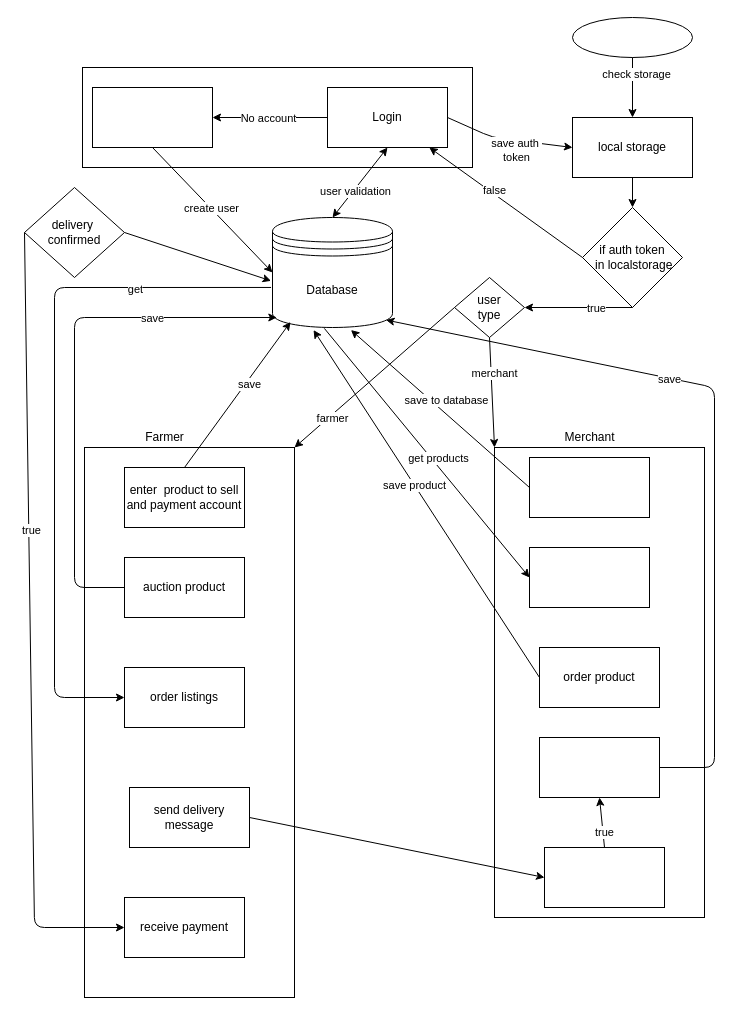
Some shapes in this 740 by 1015 pixel diagram are drawn without their labels. Each missing label, with the box of its shape:
enter business name,registration and payment account: (528, 456, 650, 518)
receive delivery message: (544, 846, 664, 908)
Register: (92, 86, 212, 148)
send confirmation messsage on delivery: (538, 736, 660, 798)
start: (572, 16, 692, 58)
view auctioned products: (528, 546, 650, 608)
